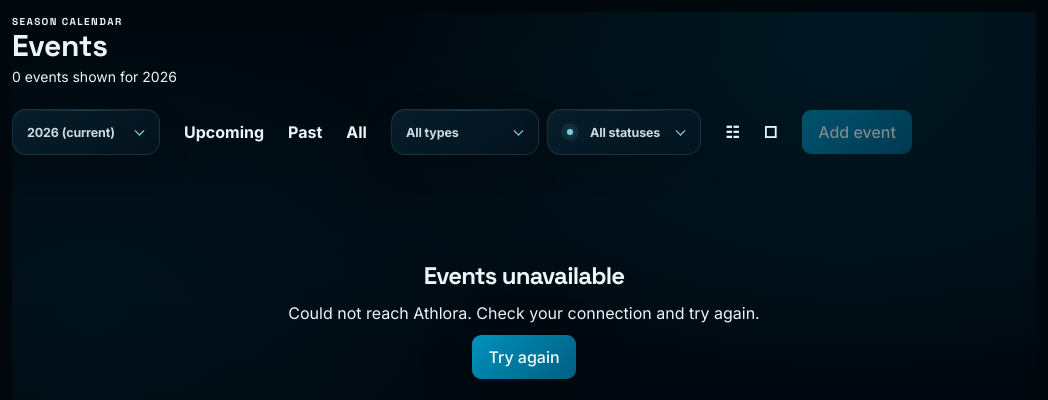
Test: EventsPage › shows an API error and retries
Check: the heading "Events unavailable" is shown, box [424, 260, 624, 290]
Check: the text "Could not reach Athlora" is shown, box [288, 302, 760, 322]
What coordinates should you click on to do the following:
click the button "Try again"
I would click on:
 (524, 356)
Its box is [472, 334, 576, 378].
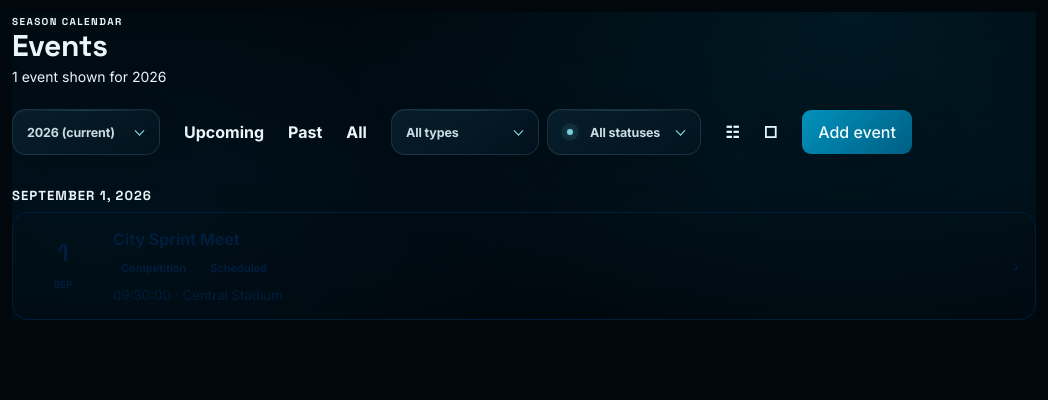
Check: the button "City Sprint Meet" is shown, box [13, 213, 1035, 319]
